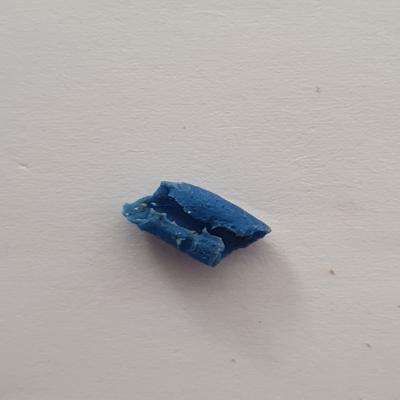plastic: (118, 177, 277, 271)
